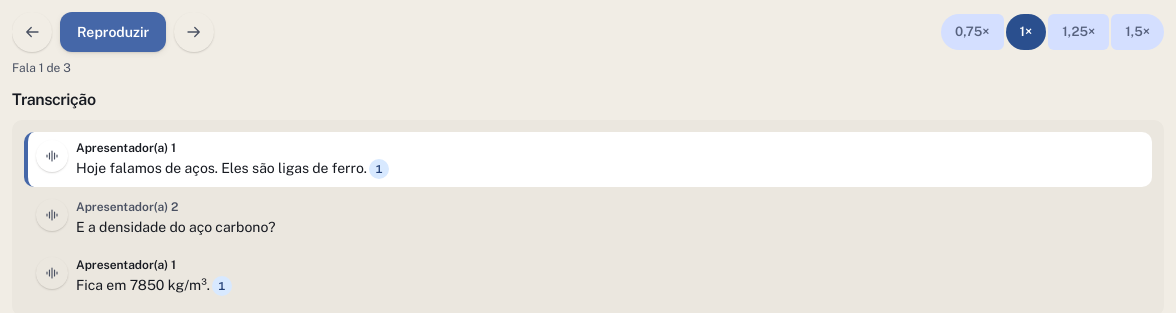
Test: AudioView (D-98) › pauses when the tab is hidden
Click the button "Reproduzir": {"x": 113, "y": 32} [60,12,166,52]
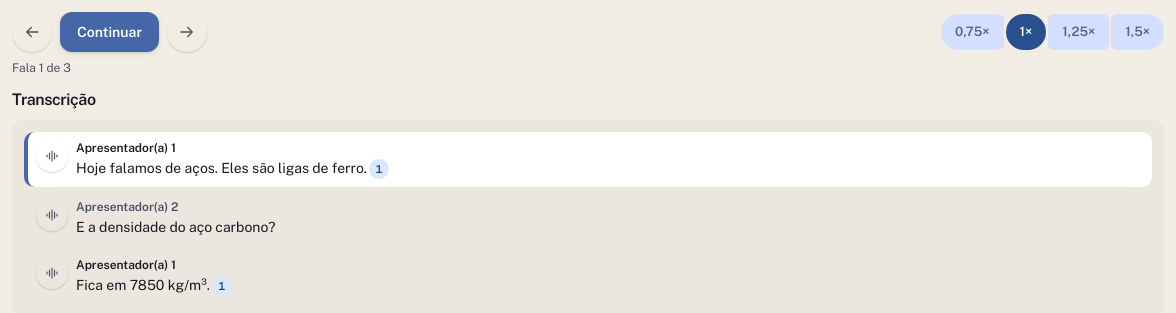
Check: the button "Continuar" is shown, box [60,12,159,52]
